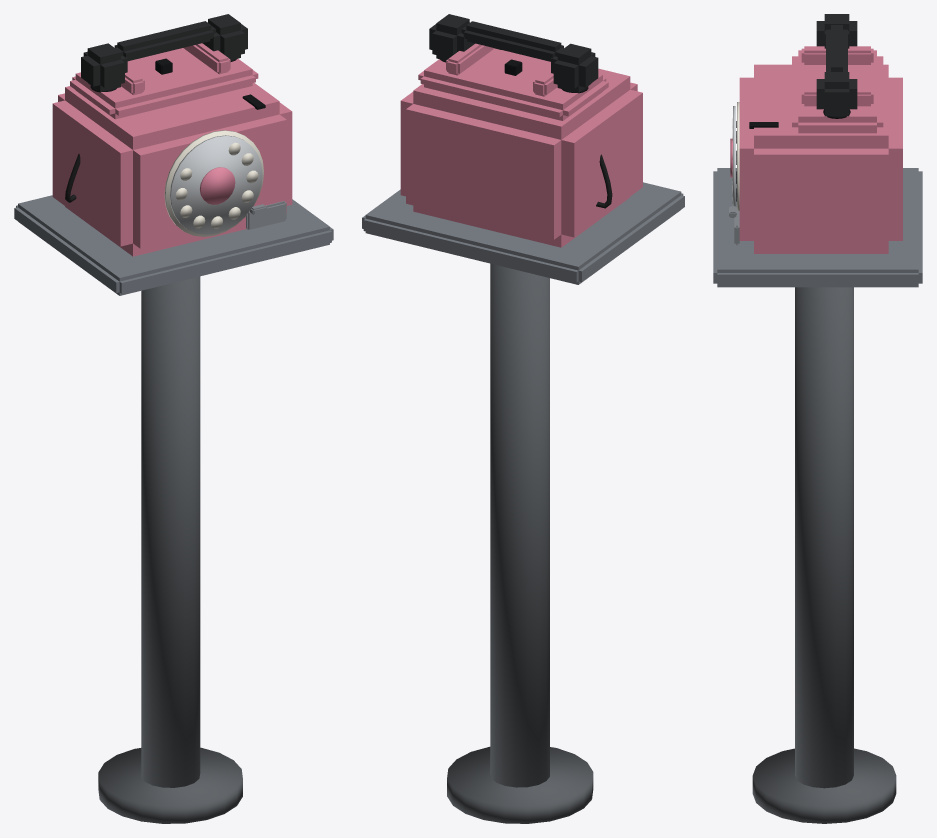
Rendered from payphone_pink.glb.
The picture shows the model from 3 angles, left to right: view 1: azimuth 30°, elevation 25°; view 2: azimuth 150°, elevation 25°; view 3: azimuth 270°, elevation 25°; orthographic projection. The views are drawn at different scales.
Visible parts, largest first — view 1: body, dial, handset, coin_return; view 2: body, handset; view 3: body, handset, dial.
Boxes of the visible parts, x1,y1,x2,y2 form: body: (14,43,333,823); dial: (170,135,262,234); handset: (81,14,247,92); coin_return: (246,201,286,229); body: (362,43,684,823); handset: (429,14,598,93); body: (713,46,922,823); handset: (816,14,857,118); dial: (730,106,735,206).
Size of the model in its own units: 0.38 by 1.26 by 0.32.
